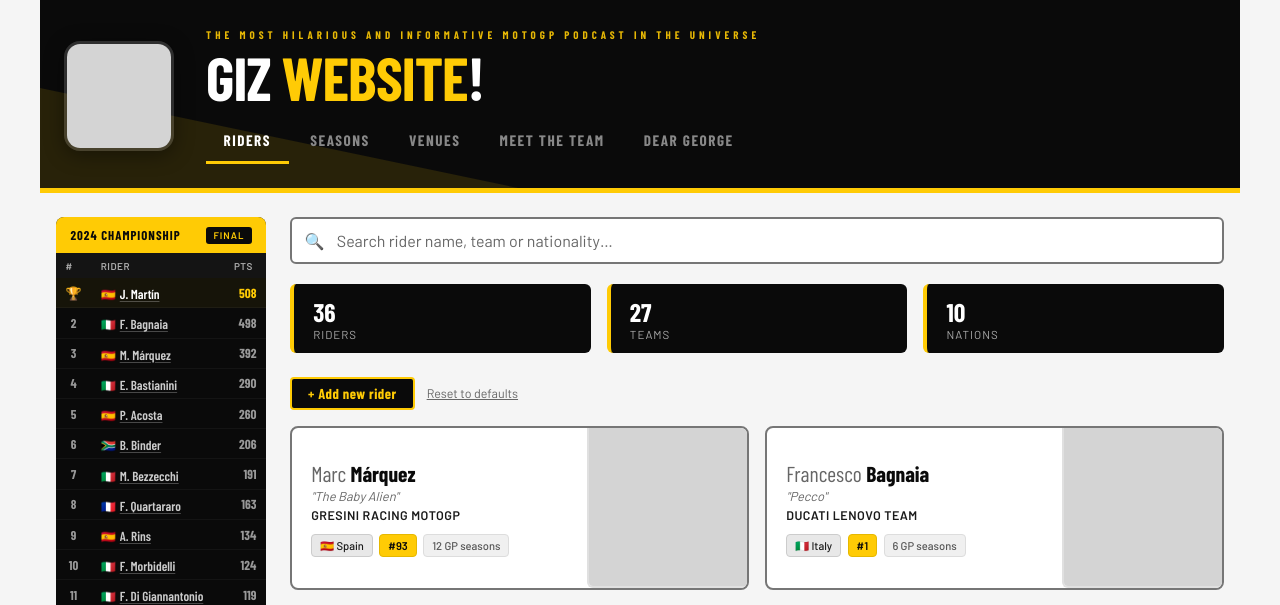
Riders view › clicking a rider card navigates to the rider detail view
Click the button that starts with "Francesco" at point(1142, 508), box [765,426,1224,590]
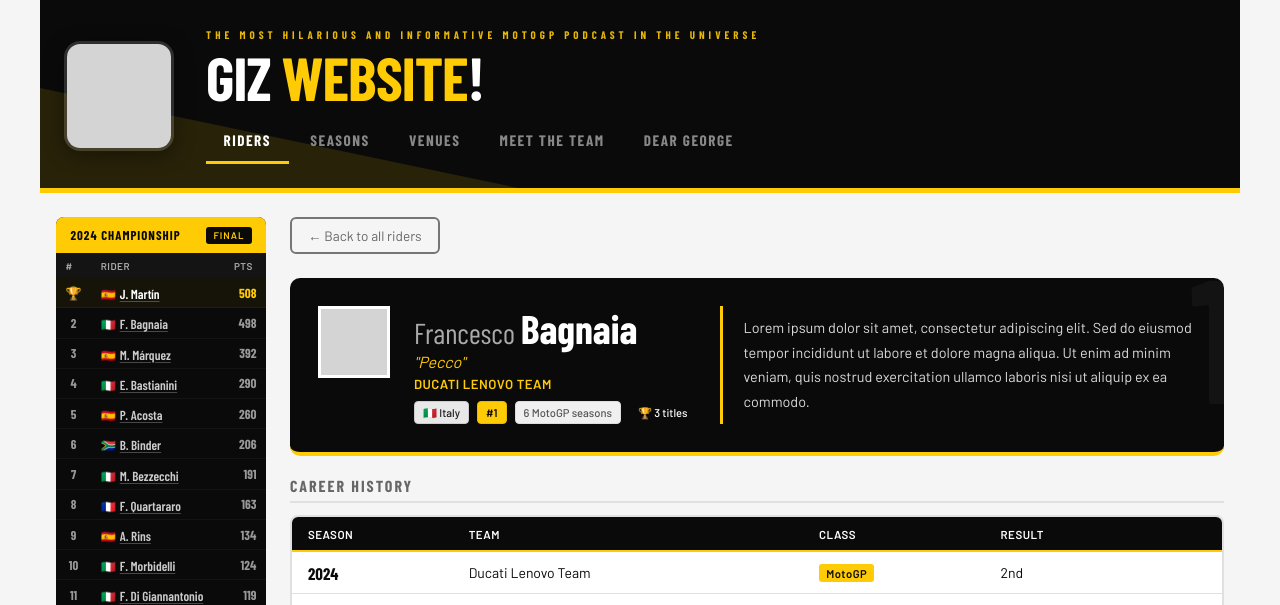
expect the button "← Back to all riders" is shown: met, box [290,217,440,254]
expect the heading "Career History" is shown: met, box [290,476,1224,503]
